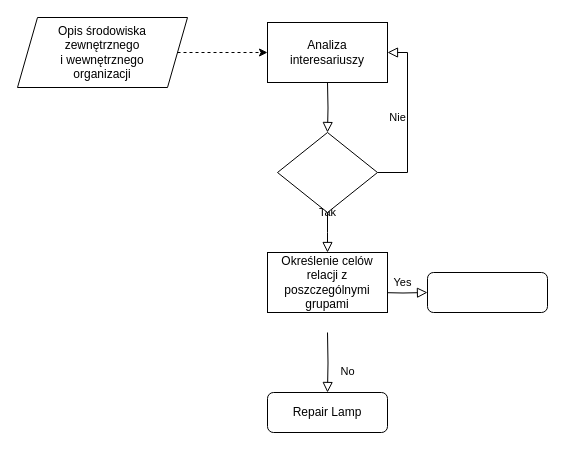
Image size: 565x450. Some labels were removed from this diagram. Here are the shapes that lost their labels. From the top down, the centre of each, then its label:
pixel 327 172: Zakończone?
pixel 487 292: Replace Bulb
